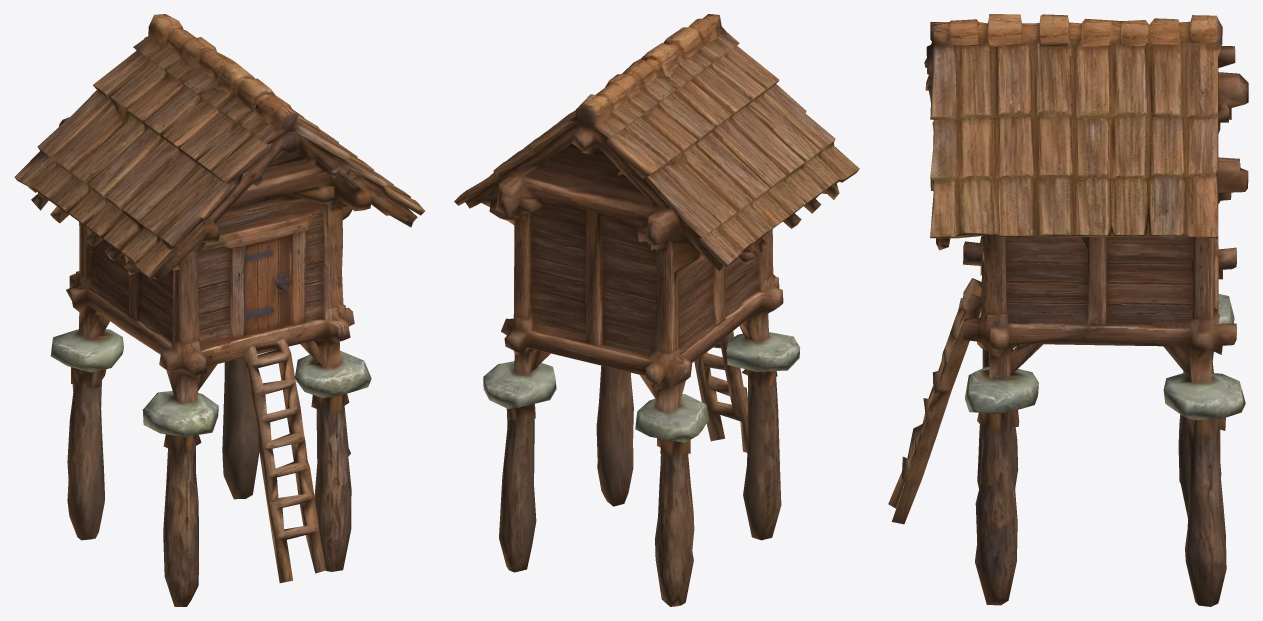
The model's file is serender.glb.
The picture shows the model from 3 angles, left to right: view 1: azimuth 30°, elevation 25°; view 2: azimuth 150°, elevation 25°; view 3: azimuth 270°, elevation 25°; orthographic projection. The views are drawn at different scales.
Parts seen in each view (by area): view 1: tripo_node_a6ff94b4-eb9e-4be1-8029-ea04121de4db; view 2: tripo_node_a6ff94b4-eb9e-4be1-8029-ea04121de4db; view 3: tripo_node_a6ff94b4-eb9e-4be1-8029-ea04121de4db.
Boxes of the visible parts, left/top/right/bottom form: tripo_node_a6ff94b4-eb9e-4be1-8029-ea04121de4db: left=14, top=14, right=425, bottom=606; tripo_node_a6ff94b4-eb9e-4be1-8029-ea04121de4db: left=454, top=14, right=859, bottom=606; tripo_node_a6ff94b4-eb9e-4be1-8029-ea04121de4db: left=888, top=14, right=1248, bottom=606.
Size of the model in its own units: 0.5846 by 0.9818 by 0.586.
Materials: 1 (1 with a texture image).
